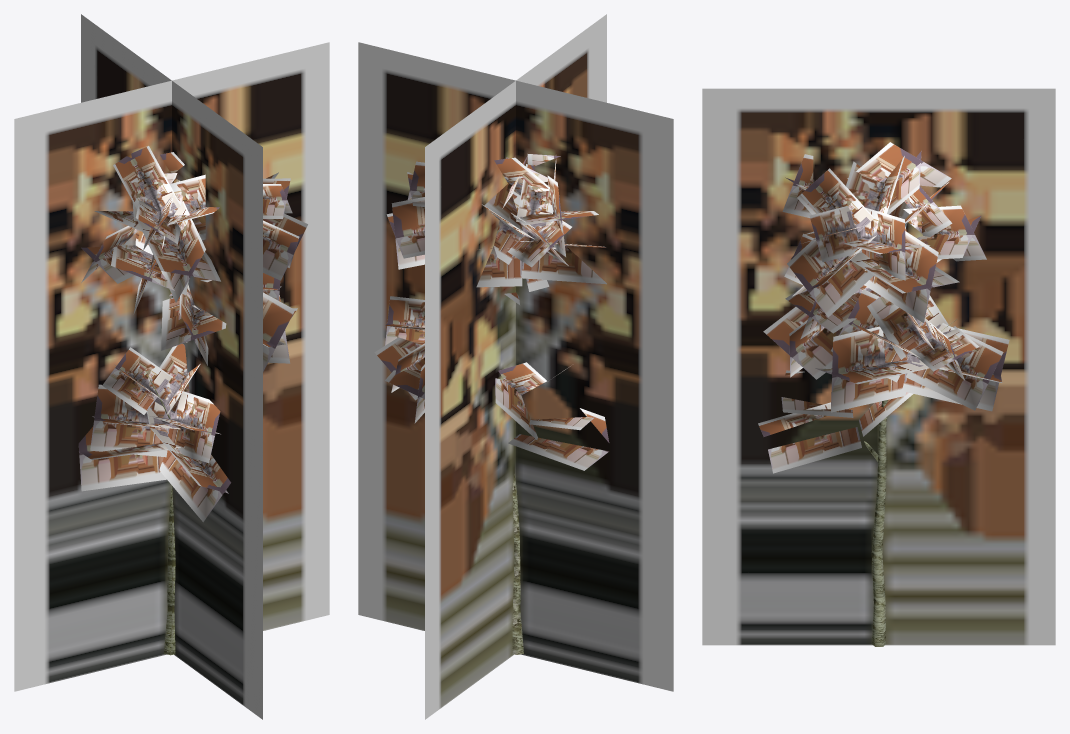
File: Tree-Beech3D-mobile.fbx
The picture shows the model from 3 angles, left to right: view 1: azimuth 30°, elevation 25°; view 2: azimuth 150°, elevation 25°; view 3: azimuth 270°, elevation 25°; orthographic projection. The views are drawn at different scales.
Parts seen in each view (by area): view 1: Billboard-BeechD, Tree-Beech3D-mobile_LOD0; view 2: Billboard-BeechD, Tree-Beech3D-mobile_LOD0; view 3: Billboard-BeechD, Tree-Beech3D-mobile_LOD0.
Boxes of the visible parts, x1=… form: Billboard-BeechD: x1=14, y1=14, x2=329, y2=719; Tree-Beech3D-mobile_LOD0: x1=78, y1=146, x2=307, y2=655; Billboard-BeechD: x1=358, y1=14, x2=673, y2=719; Tree-Beech3D-mobile_LOD0: x1=374, y1=154, x2=609, y2=654; Billboard-BeechD: x1=702, y1=88, x2=1055, y2=645; Tree-Beech3D-mobile_LOD0: x1=758, y1=142, x2=1009, y2=646.
Size of what is drawn, in the model's own units: 946 by 1642 by 946.
